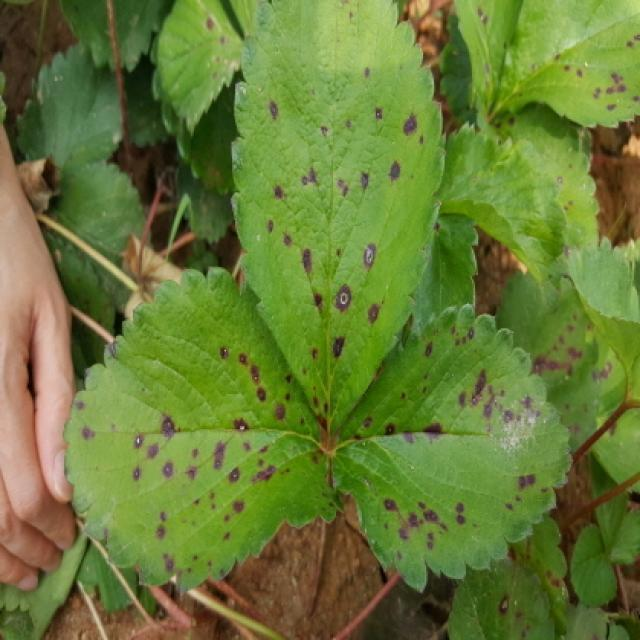Leaf Spot: (228, 0, 447, 438), (60, 260, 340, 596), (329, 303, 574, 596), (493, 267, 628, 454), (472, 0, 638, 129), (475, 103, 602, 250), (155, 0, 244, 137), (452, 557, 557, 638), (434, 0, 495, 135), (510, 518, 570, 638)
